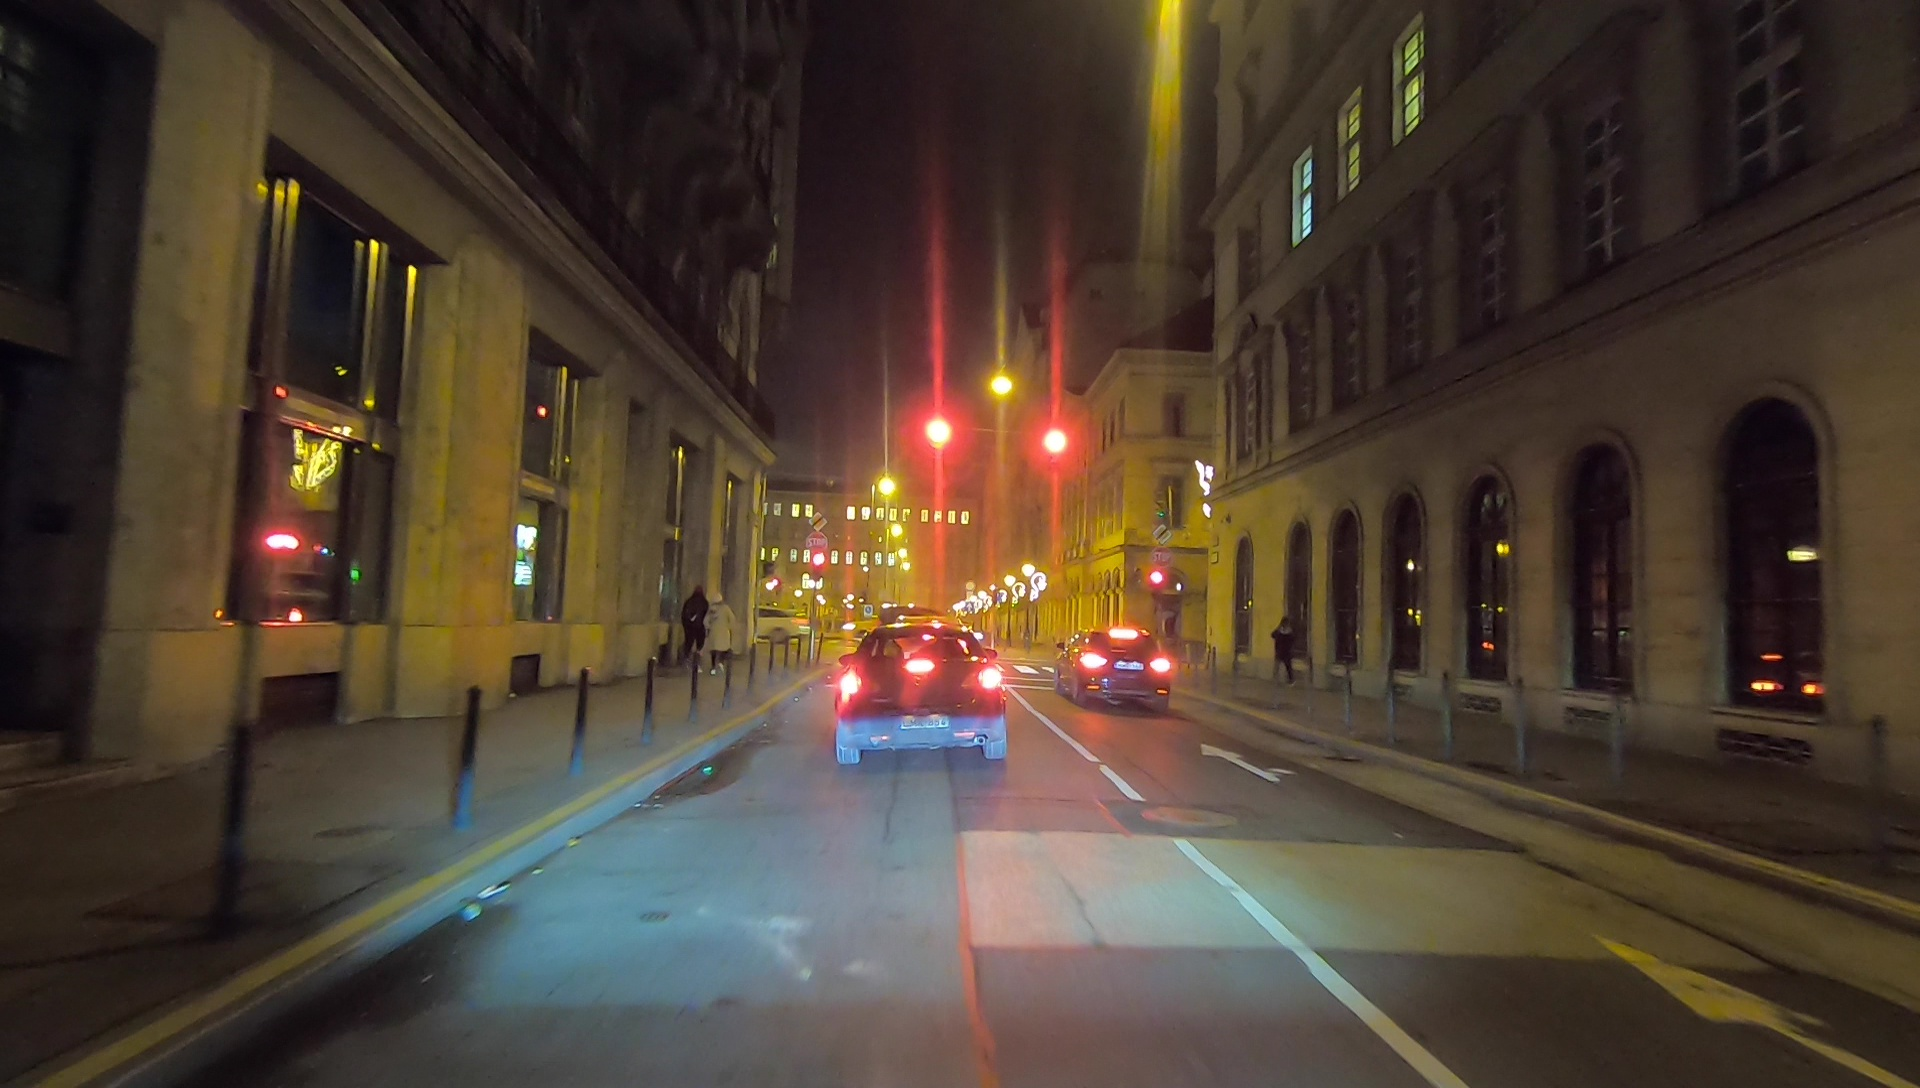person: (706, 591, 732, 667), (1269, 613, 1295, 687), (682, 591, 706, 671)
